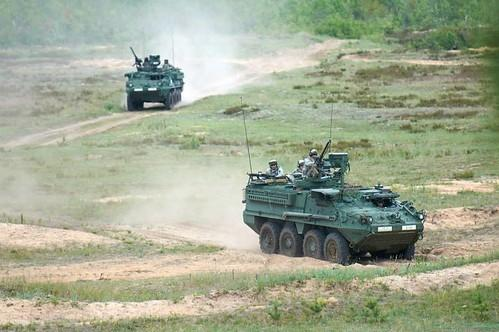armored_car: (240, 141, 427, 265), (123, 49, 185, 112)
